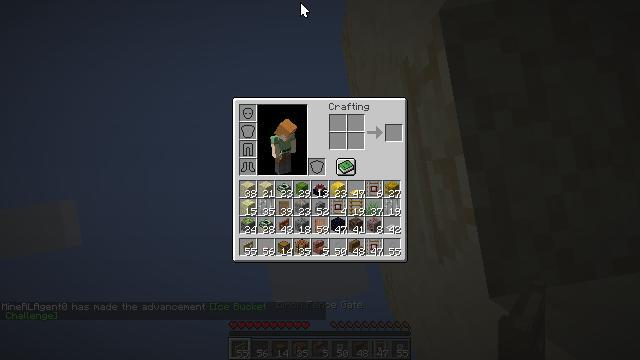cursor: (2, 300, 18, 310)
